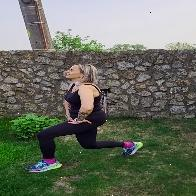lunges: (22, 59, 159, 181)
